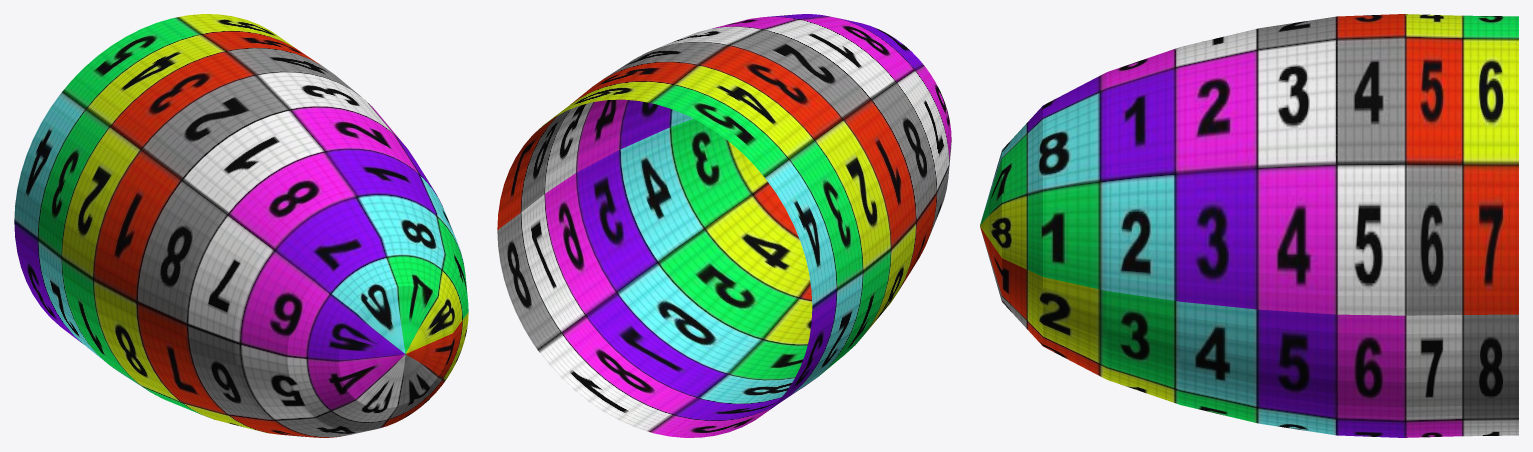
File: Lazermesh3.fbx
The picture shows the model from 3 angles, left to right: view 1: azimuth 30°, elevation 25°; view 2: azimuth 150°, elevation 25°; view 3: azimuth 270°, elevation 25°; orthographic projection. The views are drawn at different scales.
Visible parts, largest first — view 1: Cylinder; view 2: Cylinder; view 3: Cylinder.
Part boxes in pixels (x1,y1,x2,y2): Cylinder: [14, 14, 468, 437]; Cylinder: [497, 14, 951, 437]; Cylinder: [980, 14, 1518, 437].
Size of the model in its own units: 128 by 101 by 101.
